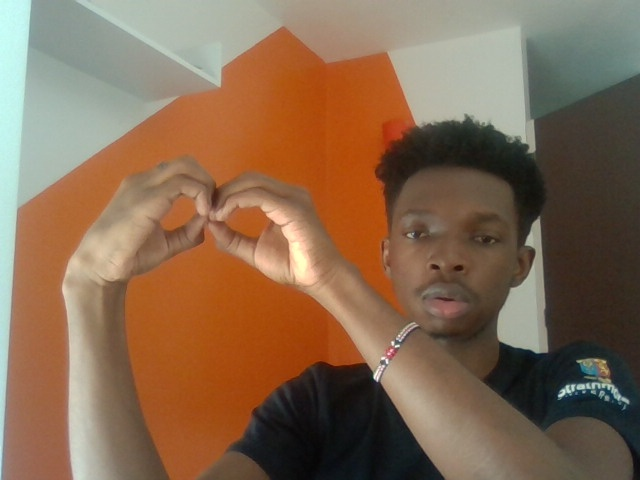BSL-B: (77, 154, 325, 293)
